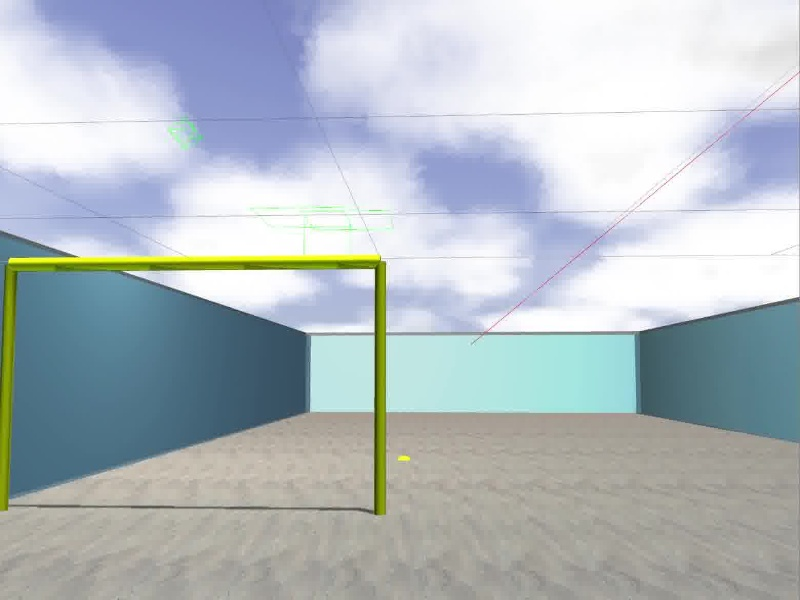gate: (1, 256, 389, 519)
